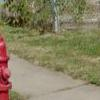Hydrant: (1, 33, 13, 98)
